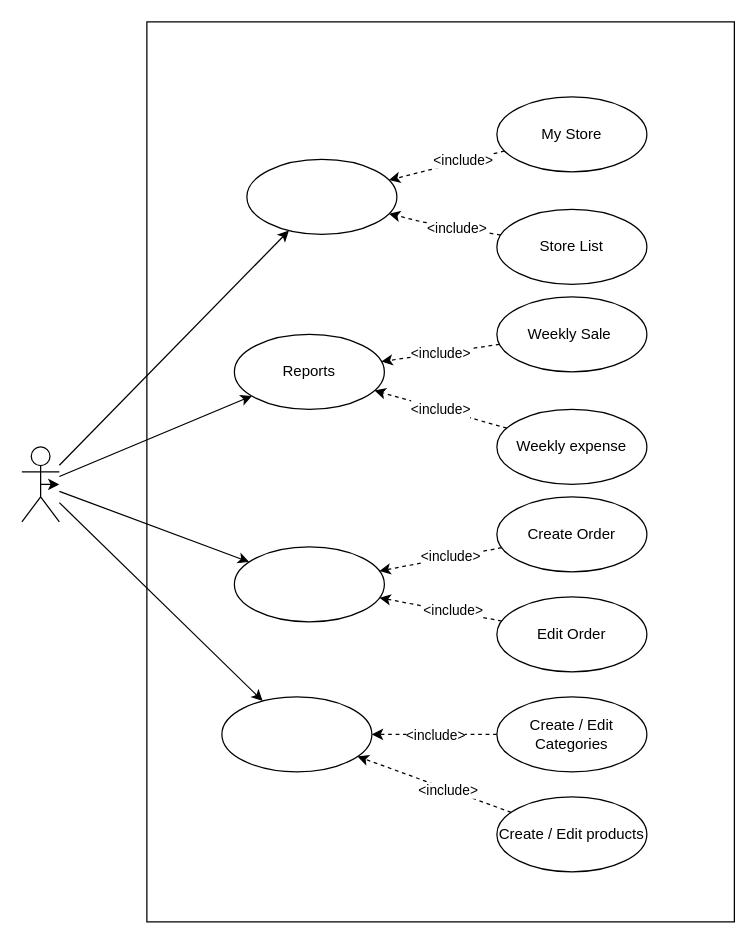
Some shapes in this 756 by 944 pixel diagram are drawn without their labels. The shapes that lost their labels are listed below. From the top down, each one's centre as x and y in pixels, then its label:
the point at 321,196: Manage Store
the point at 40,484: User
the point at 308,584: Manage Orders
the point at 296,734: Manage Products
